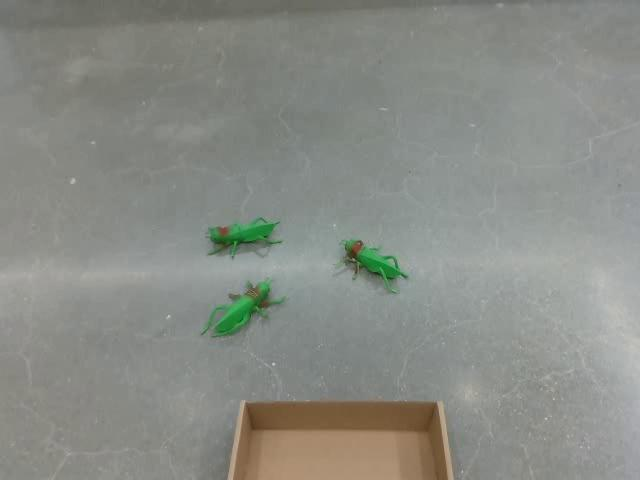box: (226, 398, 454, 479)
grasshopper: (199, 276, 286, 338), (335, 237, 409, 294), (204, 215, 282, 259)
